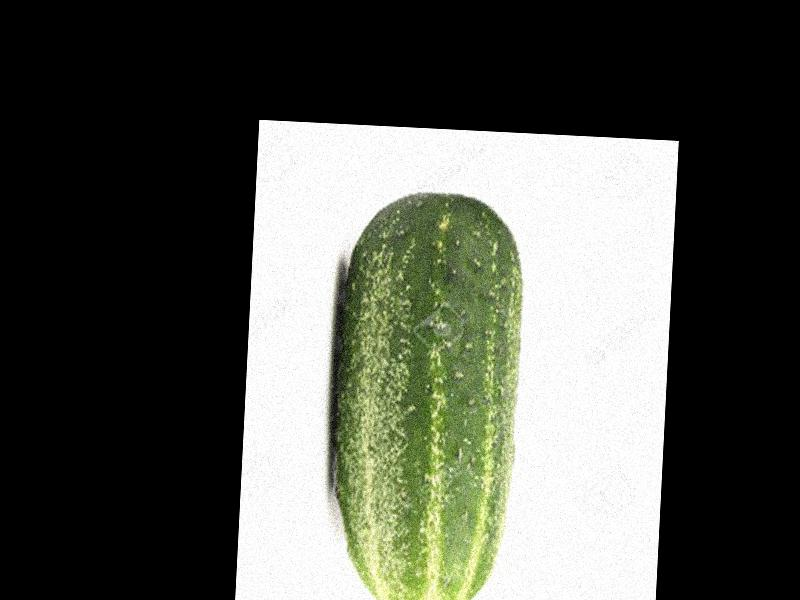Cucumber: (323, 185, 527, 600)
